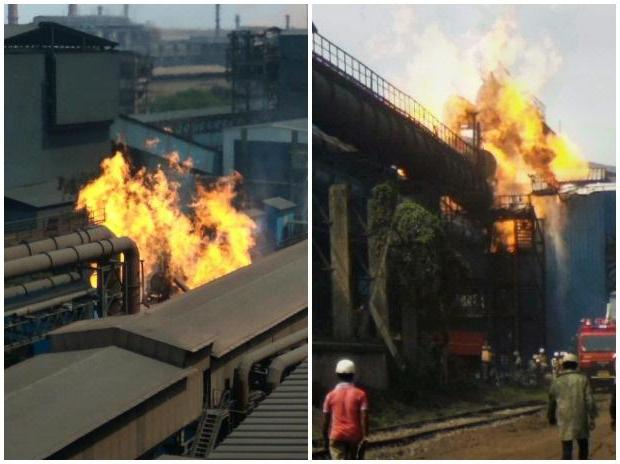fire: (392, 15, 597, 239), (81, 150, 258, 300)
